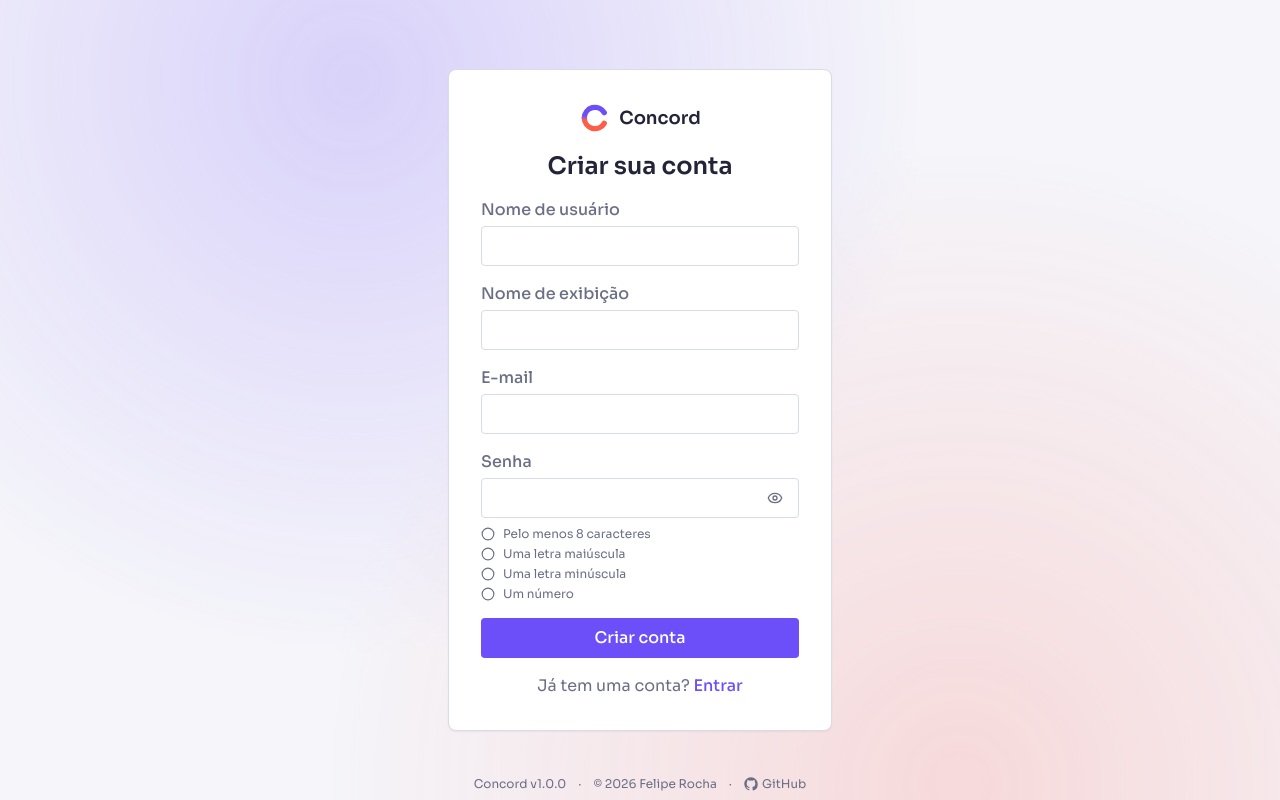
RegisterPage › disables the submit button while the mutation is pending
Type "jdoe" into the field labelled "Nome de usuário".
click(640, 246); type("jdoe")  # box [481,226,799,266]
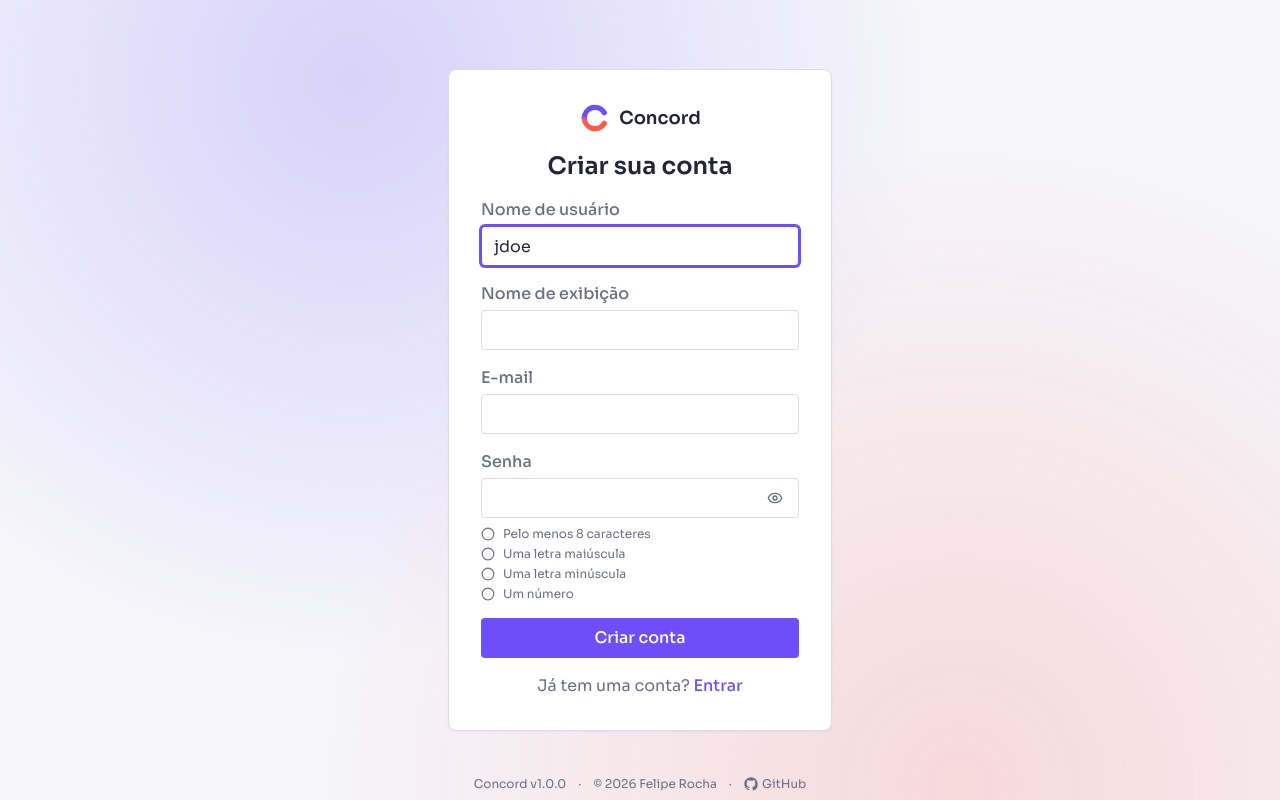
Type "John Doe" into the field labelled "Nome de exibição".
click(640, 330); type("John Doe")  # box [481,310,799,350]
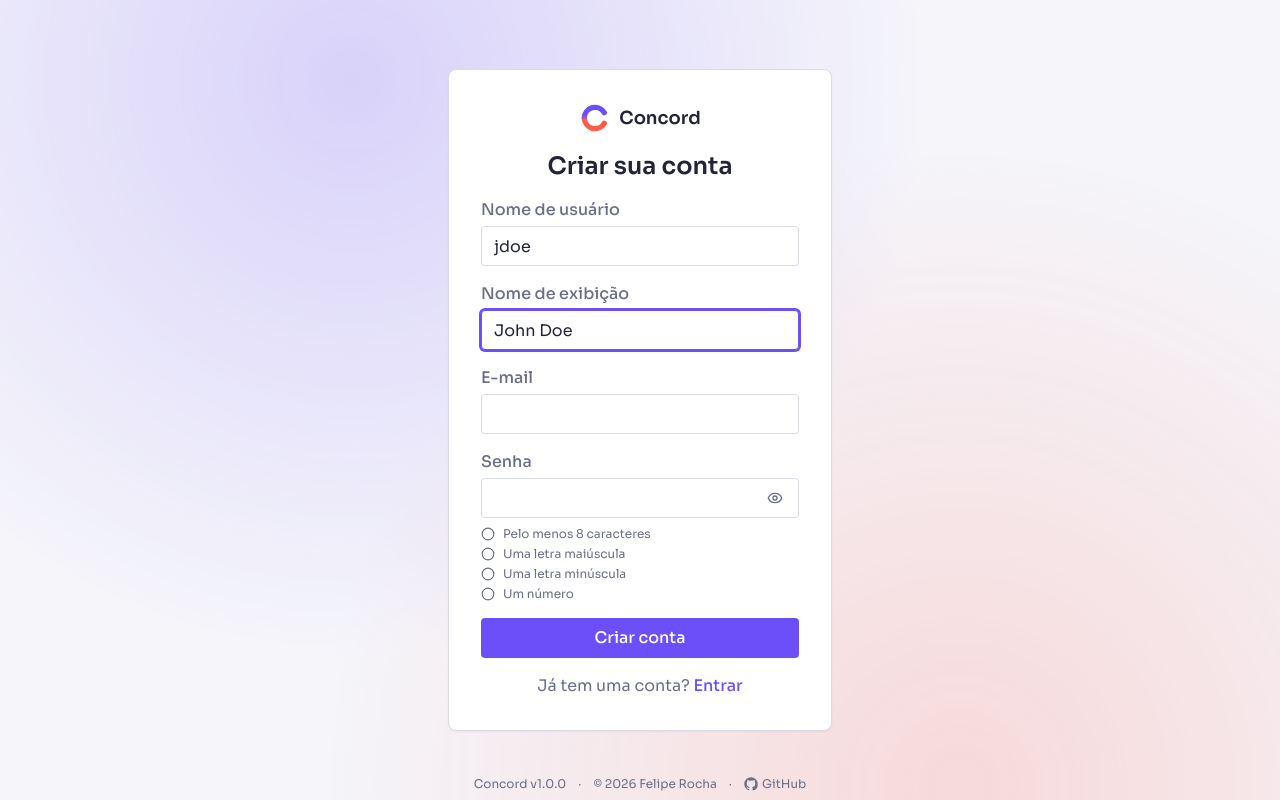
Type "a@b.com" into the field labelled "E-mail".
click(640, 414); type("a@b.com")  # box [481,394,799,434]
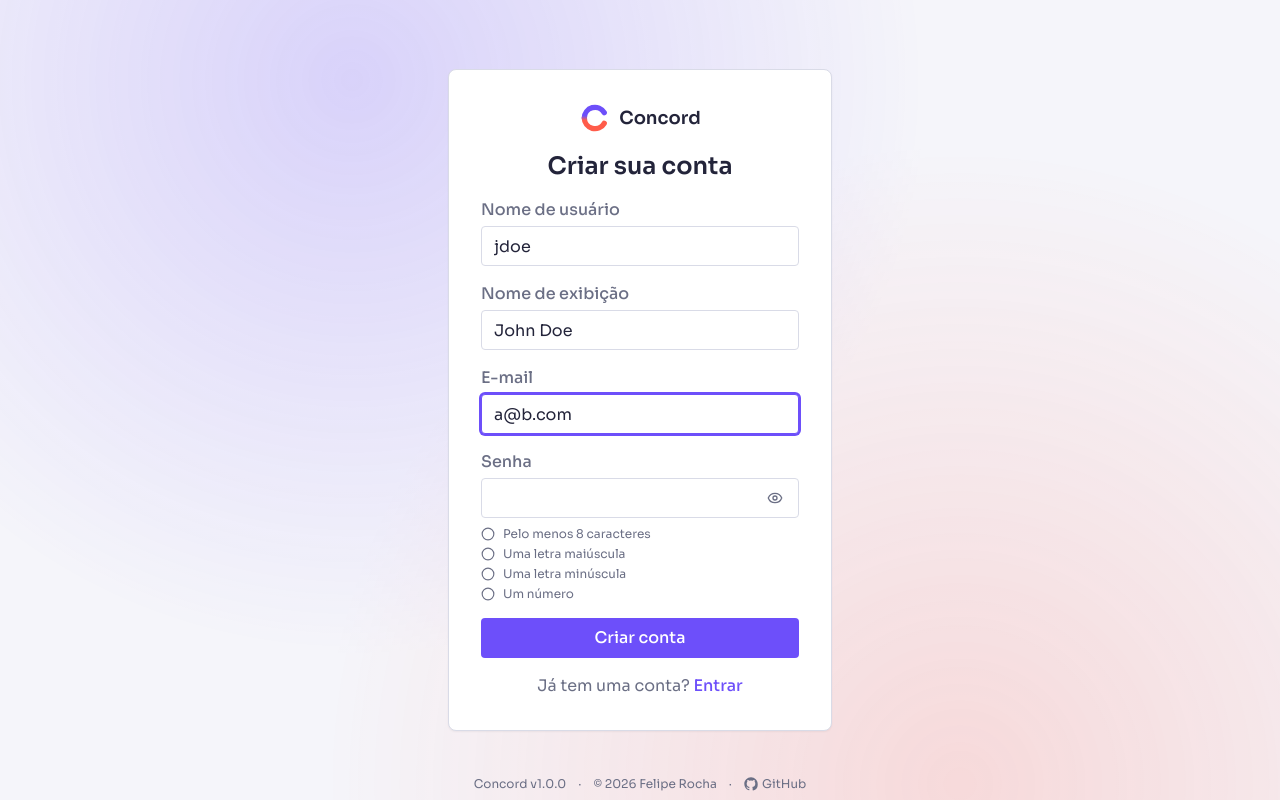
Type "Password123" into the password field labelled "Senha".
click(640, 498); type("Password123")  # box [481,478,799,518]
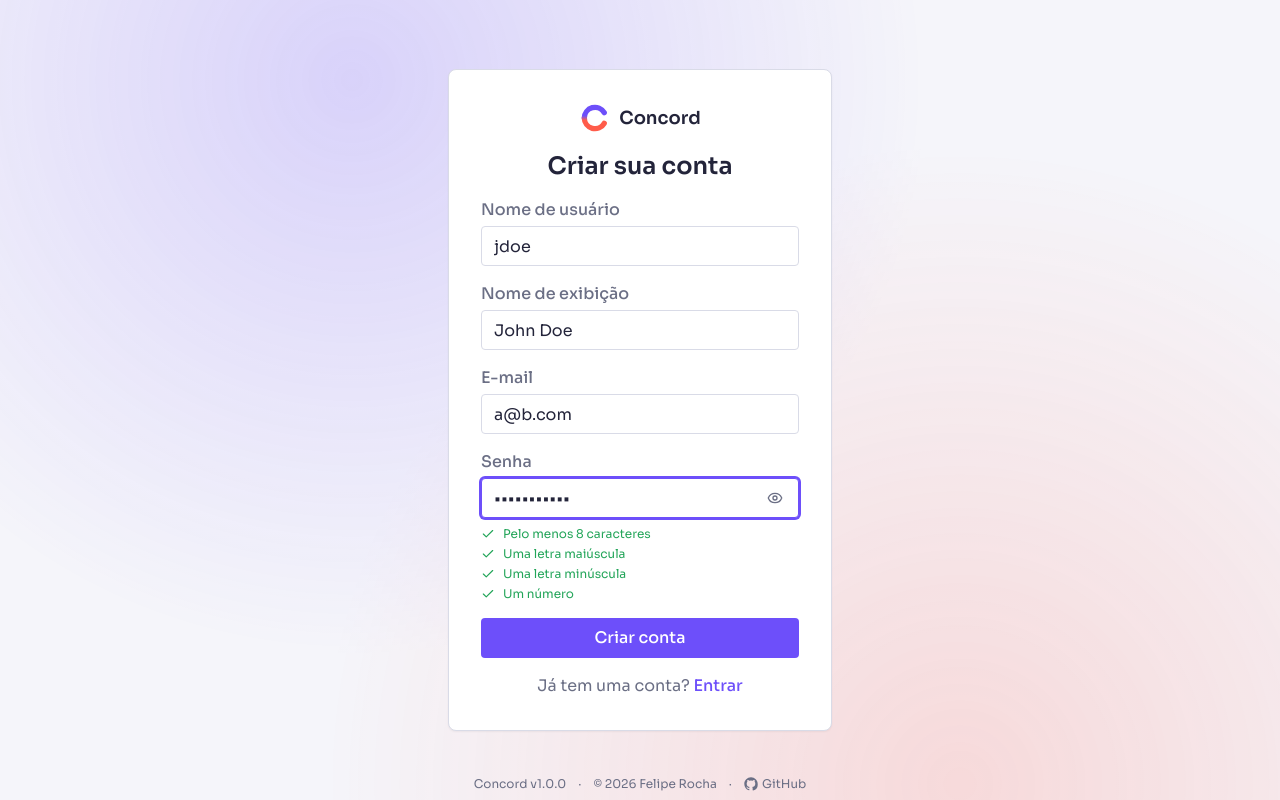
Click the button "Criar conta".
click(640, 638)  # box [481,618,799,658]
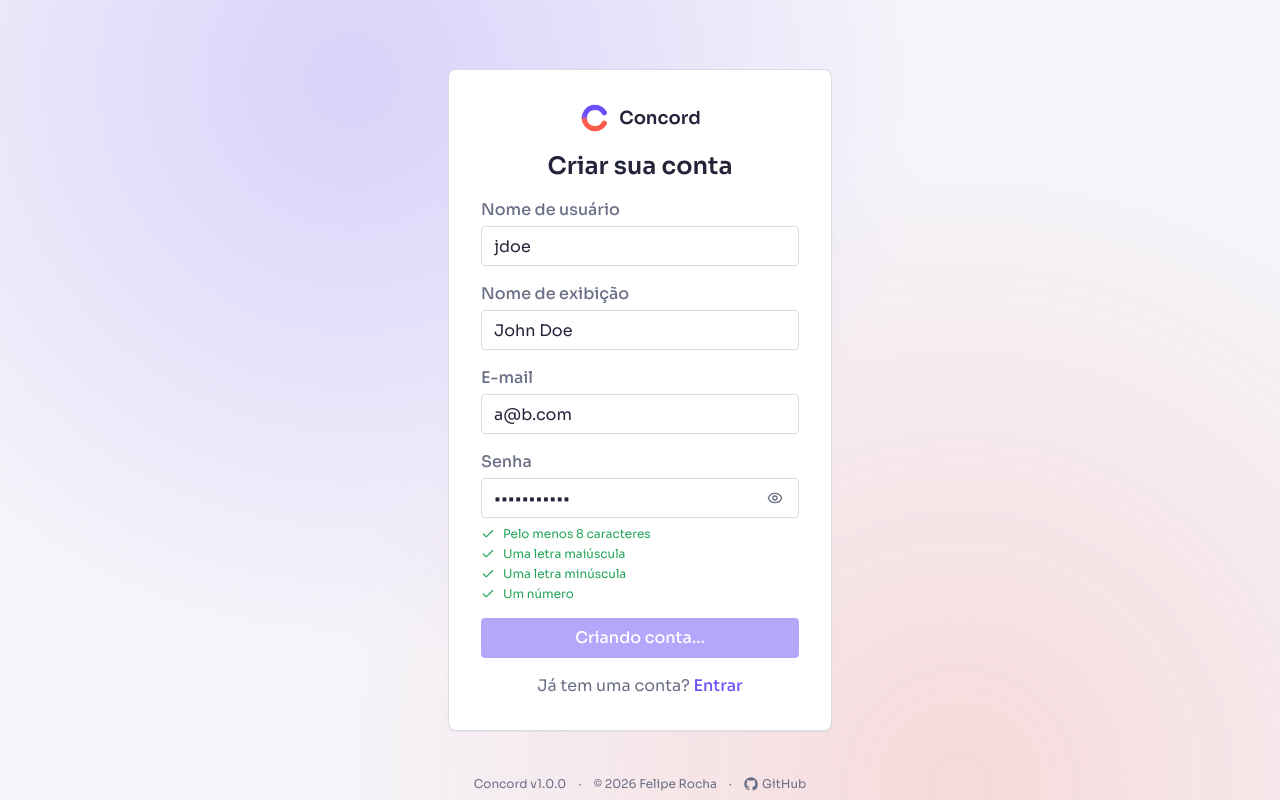
Result: the button "Criando conta…" is disabled at [481,618,799,658]
